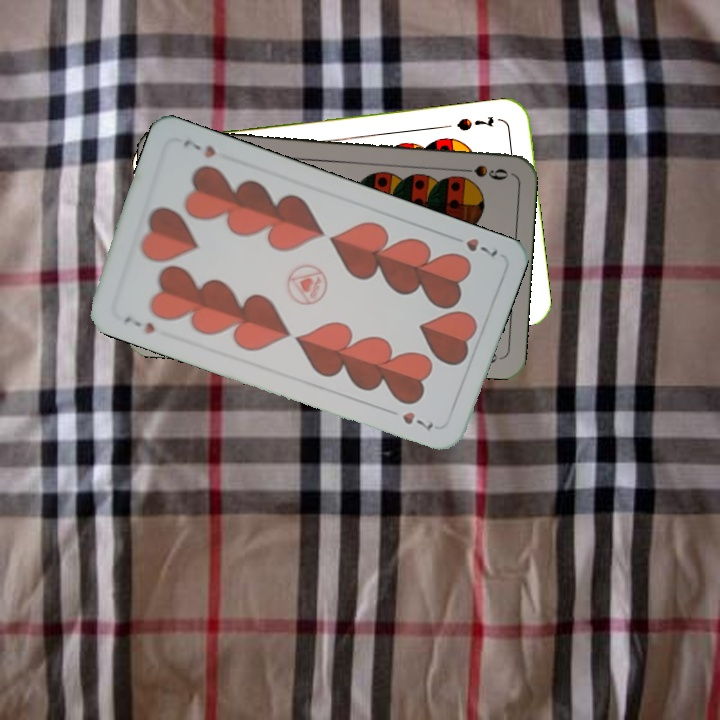H7: (446, 231, 501, 260), (120, 311, 158, 337)
S7: (453, 112, 496, 134)
S9: (452, 161, 511, 183)
